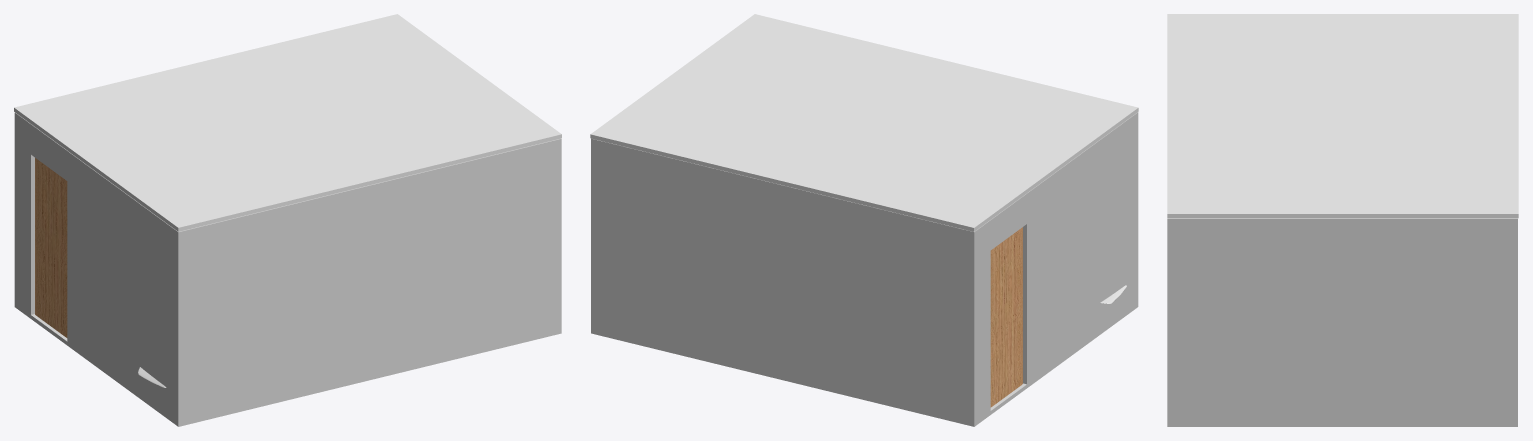
The model's file is room 2.glb.
The picture shows the model from 3 angles, left to right: view 1: azimuth 30°, elevation 25°; view 2: azimuth 150°, elevation 25°; view 3: azimuth 270°, elevation 25°; orthographic projection. The views are drawn at different scales.
Parts seen in each view (by area): view 1: Cube, Cube.012, Plane; view 2: Cube, Cube.012, Plane; view 3: Cube, Cube.012.
Boxes of the visible parts, bbox=[...] form: Cube: bbox=[14, 112, 561, 426]; Cube.012: bbox=[14, 14, 561, 231]; Plane: bbox=[35, 158, 67, 337]; Cube: bbox=[591, 112, 1138, 426]; Cube.012: bbox=[590, 14, 1138, 231]; Plane: bbox=[990, 227, 1022, 407]; Cube: bbox=[1167, 218, 1517, 426]; Cube.012: bbox=[1167, 14, 1518, 218].
Size of the model in its own units: 205 by 100 by 150.
35 materials, 7 textured.
